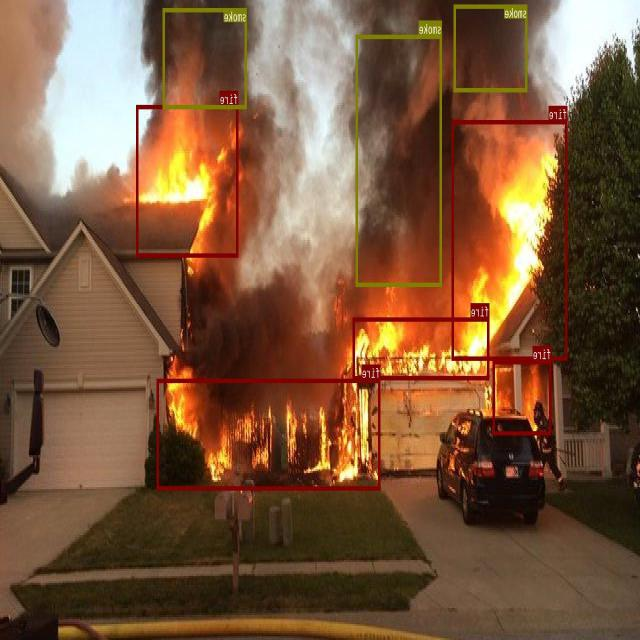fire: (452, 119, 568, 360), (157, 379, 381, 489), (137, 104, 238, 257), (353, 316, 490, 379), (493, 360, 552, 434)
smoke: (357, 34, 442, 285), (163, 8, 247, 108), (454, 4, 528, 91)
